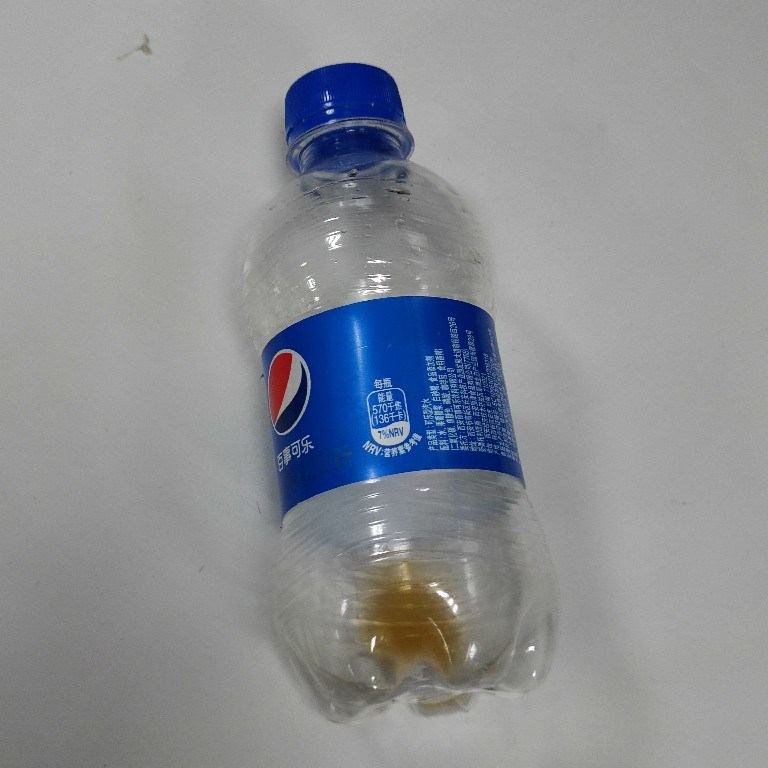bottle: (224, 53, 576, 730)
